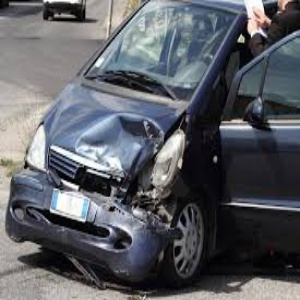bonnet: (52, 89, 163, 177)
bumper: (8, 172, 175, 282)
head_lights: (140, 125, 185, 196)
